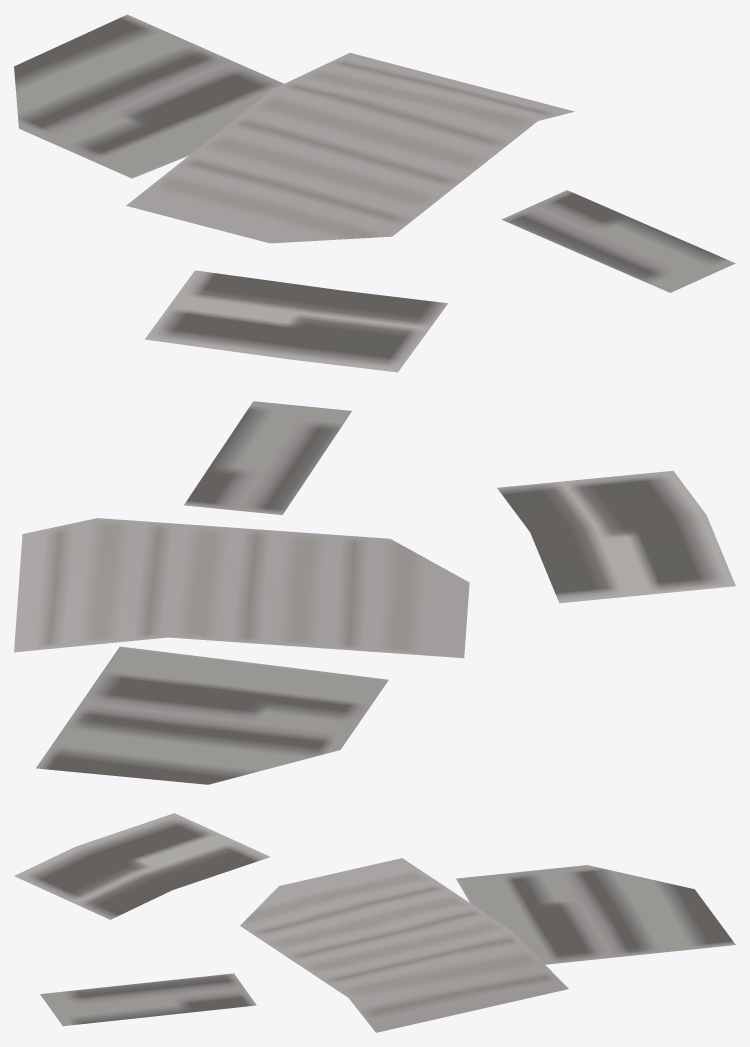
The model's file is SM_Prop_Rubbish_Papers_03.glb.
3 views of the same model, one above another, from view 1: azimuth 30°, elevation 25°; view 2: azimuth 150°, elevation 25°; view 3: azimuth 270°, elevation 25° (orthographic). The views are drawn at different scales.
Visible parts, largest first — view 1: SM_Prop_Rubbish_Papers_03; view 2: SM_Prop_Rubbish_Papers_03; view 3: SM_Prop_Rubbish_Papers_03.
Part boxes in pixels (box(x1,y1,x2,y2)): SM_Prop_Rubbish_Papers_03: box(14, 14, 735, 372); SM_Prop_Rubbish_Papers_03: box(14, 401, 735, 784); SM_Prop_Rubbish_Papers_03: box(14, 813, 735, 1032).
Bounding box in the file's own units: 0.4498 × 0.0172 × 0.6158.
1 material, 1 textured.
